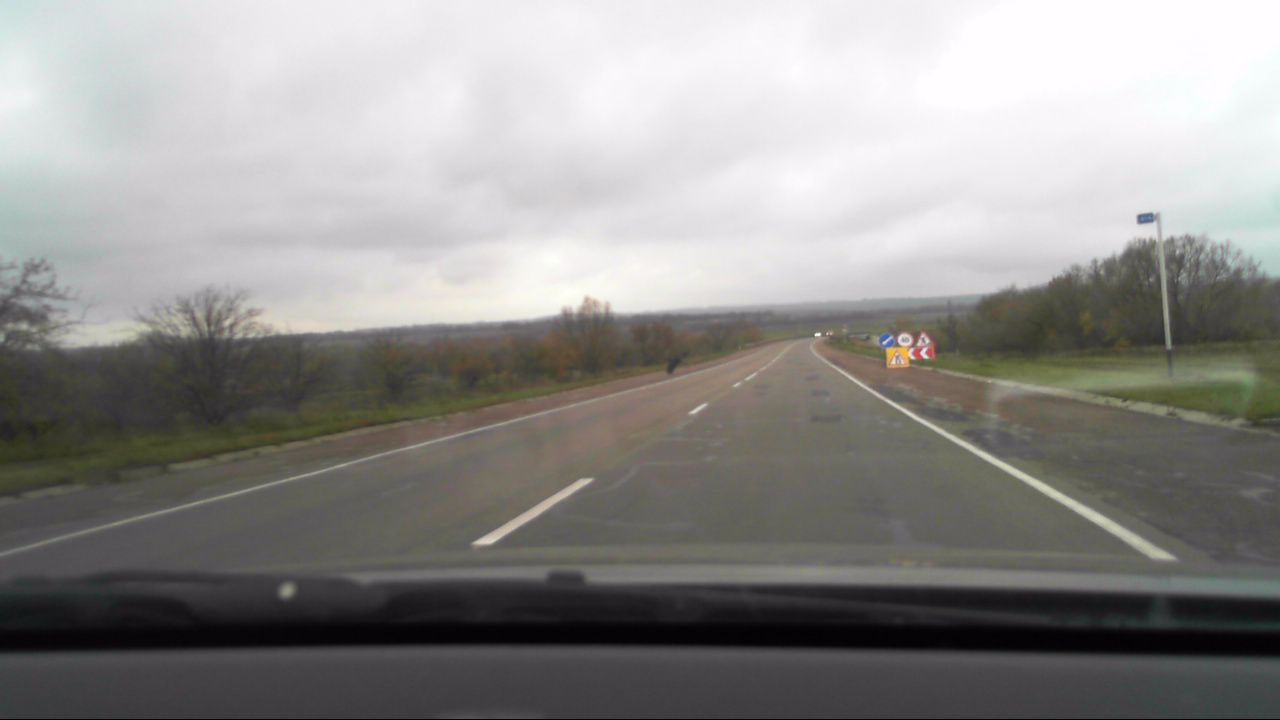speed_warning_40: (896, 331, 914, 348)
